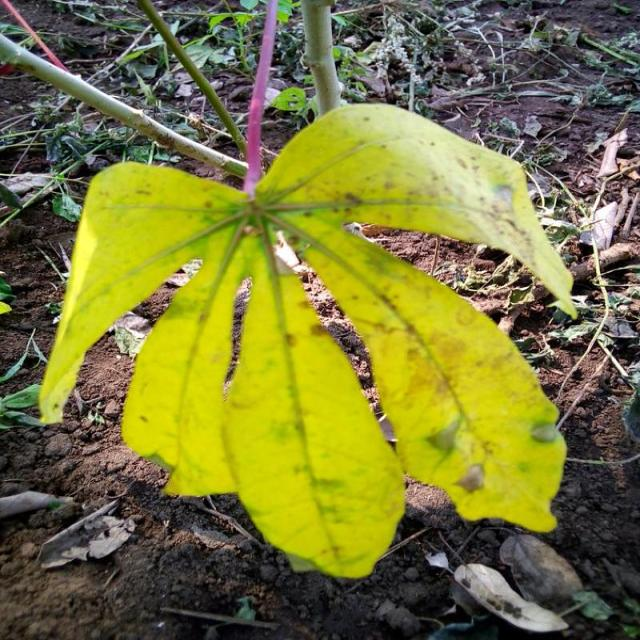cassava leaf: (38, 98, 578, 579)
